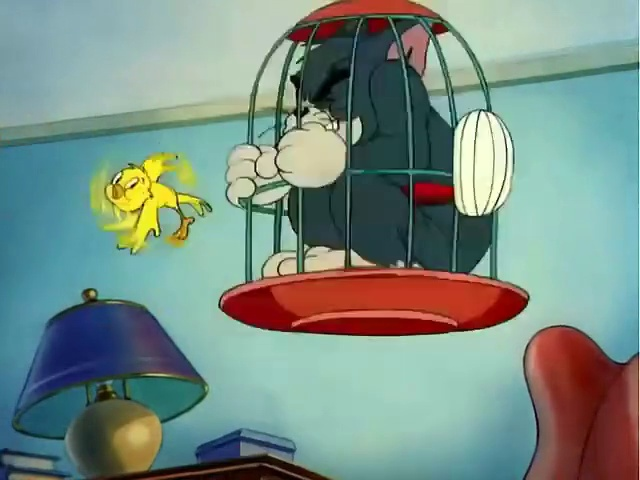tom: (220, 12, 540, 276)
